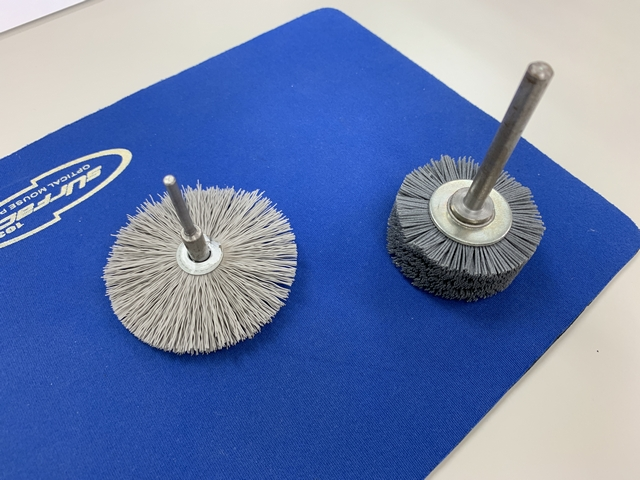TOOL: (96, 163, 302, 361), (95, 153, 303, 316), (138, 162, 300, 364), (98, 159, 243, 361)
Wheel Brush: (387, 57, 553, 312), (420, 56, 551, 302), (386, 58, 519, 297)
